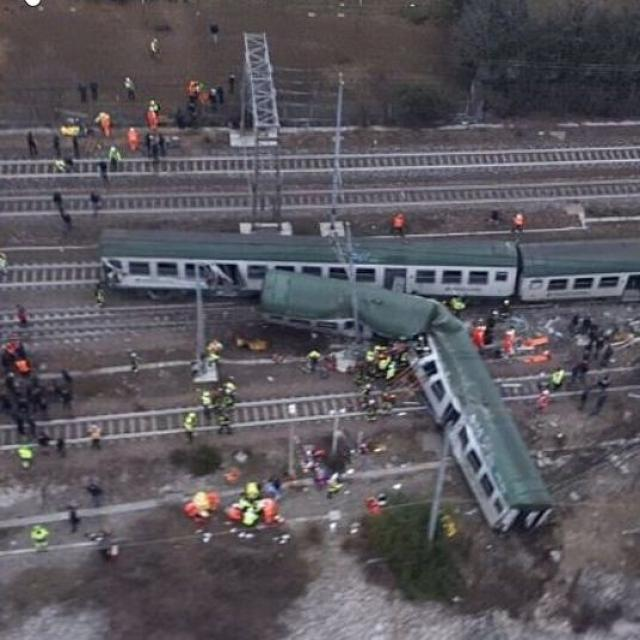traffic_incident: (247, 268, 573, 542), (49, 207, 639, 287)
